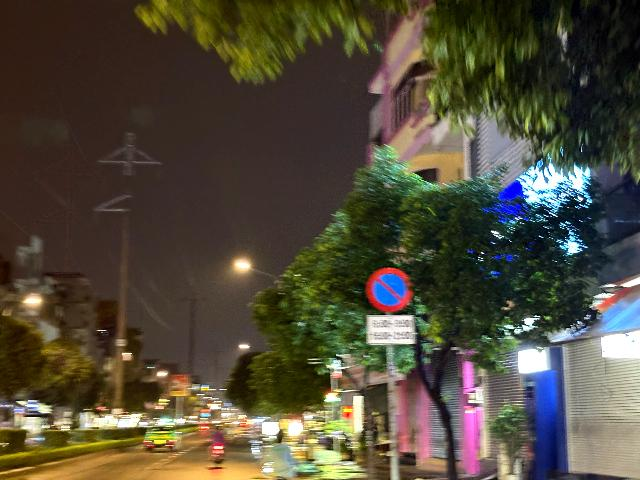cam-do-xe: (364, 266, 412, 312)
